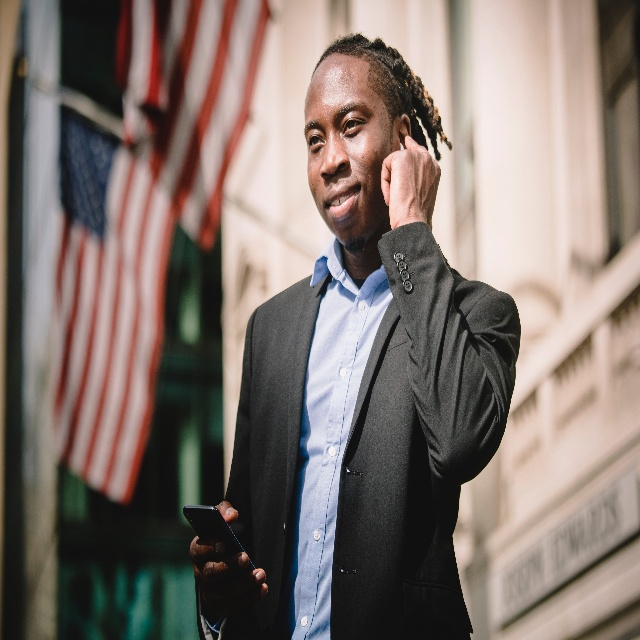Sin_guantes: (187, 503, 268, 613), (379, 130, 443, 226)
